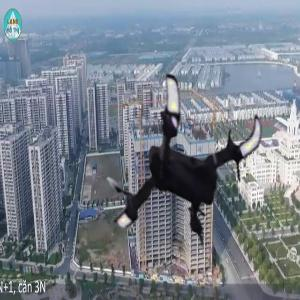drone: (81, 73, 279, 271)
